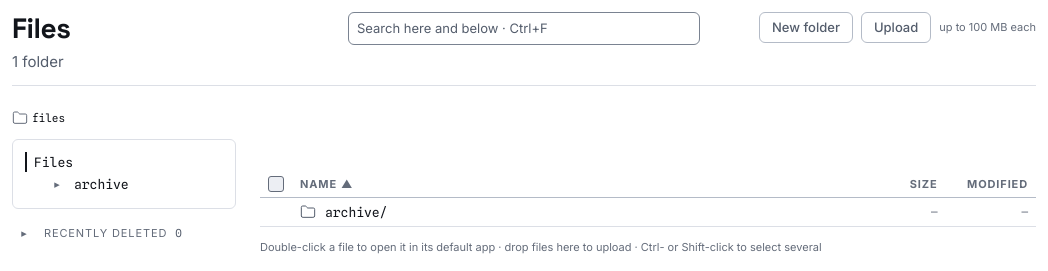
Test: Files — the listing › descends into a folder and returns to the root via breadcrumbs
The image size is (1048, 271).
Click the button "archive/" at (356, 212), box [324,202,388,222]
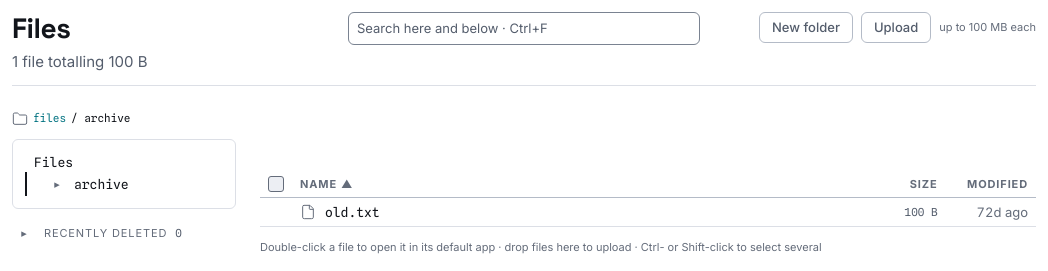
Check: the text "old.txt" is shown, box [325,203,380,221]
Check: the text "/ archive" is shown, box [71,110,130,127]
Click the button "files" at (50, 118), box [32,110,67,127]
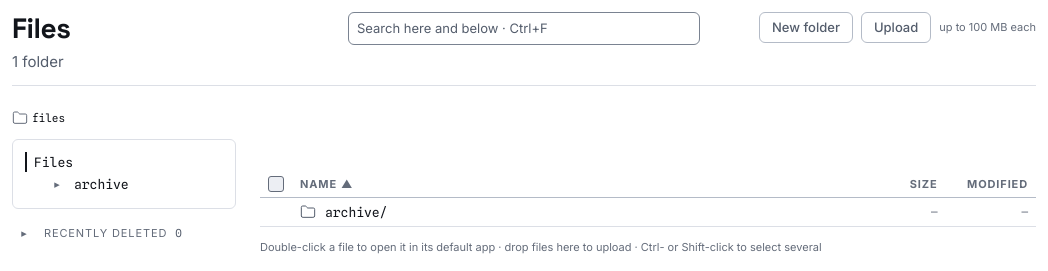
Check: the text "archive/" is shown, box [325,203,387,221]
